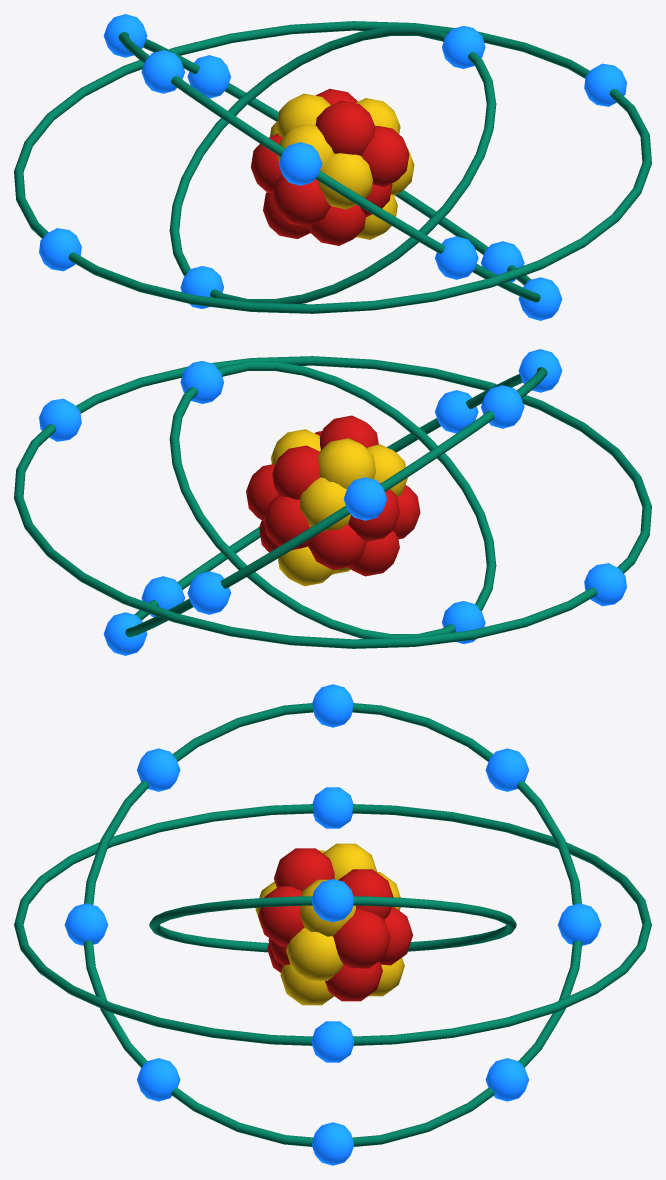
The model's file is Atom_Mg.fbx.
The picture shows the model from 3 angles, top to bottom: view 1: azimuth 30°, elevation 25°; view 2: azimuth 150°, elevation 25°; view 3: azimuth 270°, elevation 25°; orthographic projection.
Visible parts, largest first — view 1: Mg_Inti_Atom, Mg_Orbit_3, Mg_Orbit_2, Mg_Orbit_1; view 2: Mg_Inti_Atom, Mg_Orbit_3, Mg_Orbit_2, Mg_Orbit_1; view 3: Mg_Orbit_2, Mg_Inti_Atom, Mg_Orbit_3, Mg_Orbit_1.
Boxes of the visible parts, box(x1,y1,x2,y2) form: Mg_Inti_Atom: box(250, 88, 414, 245); Mg_Orbit_3: box(14, 21, 651, 313); Mg_Orbit_2: box(103, 14, 562, 320); Mg_Orbit_1: box(169, 26, 496, 308); Mg_Inti_Atom: box(246, 415, 420, 586); Mg_Orbit_3: box(14, 356, 651, 648); Mg_Orbit_2: box(103, 349, 562, 655); Mg_Orbit_1: box(169, 361, 496, 643); Mg_Orbit_2: box(64, 684, 601, 1165); Mg_Inti_Atom: box(255, 843, 412, 1005); Mg_Orbit_3: box(14, 787, 651, 1062); Mg_Orbit_1: box(149, 879, 516, 952).
Size of the model in its own units: 1.68 by 0.8601 by 1.6.
